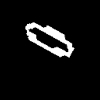chain: (26, 23, 73, 56)
